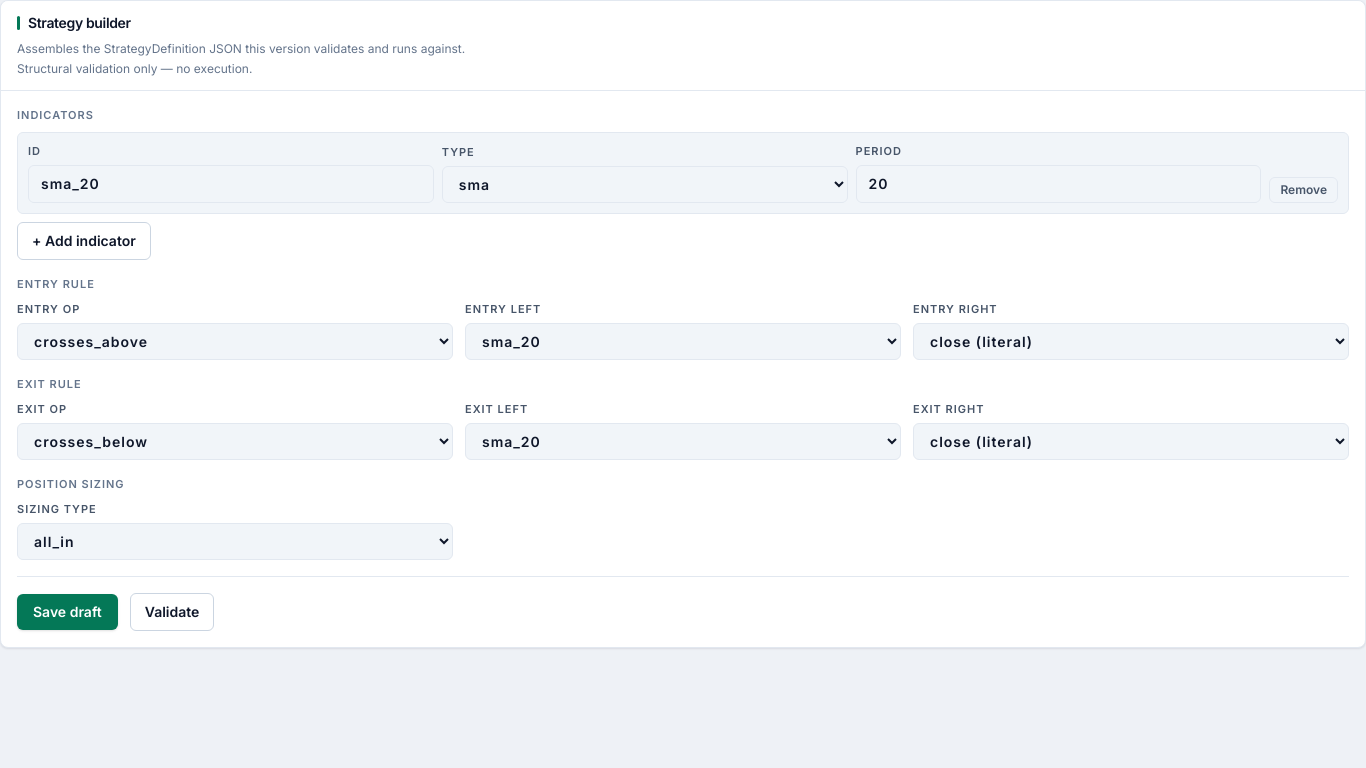
it: StrategyBuilderForm › renders every string in a 422 errors array as its own visible line
The image size is (1366, 768).
Click the button "Validate" at (172, 612), box [130,593,214,631]
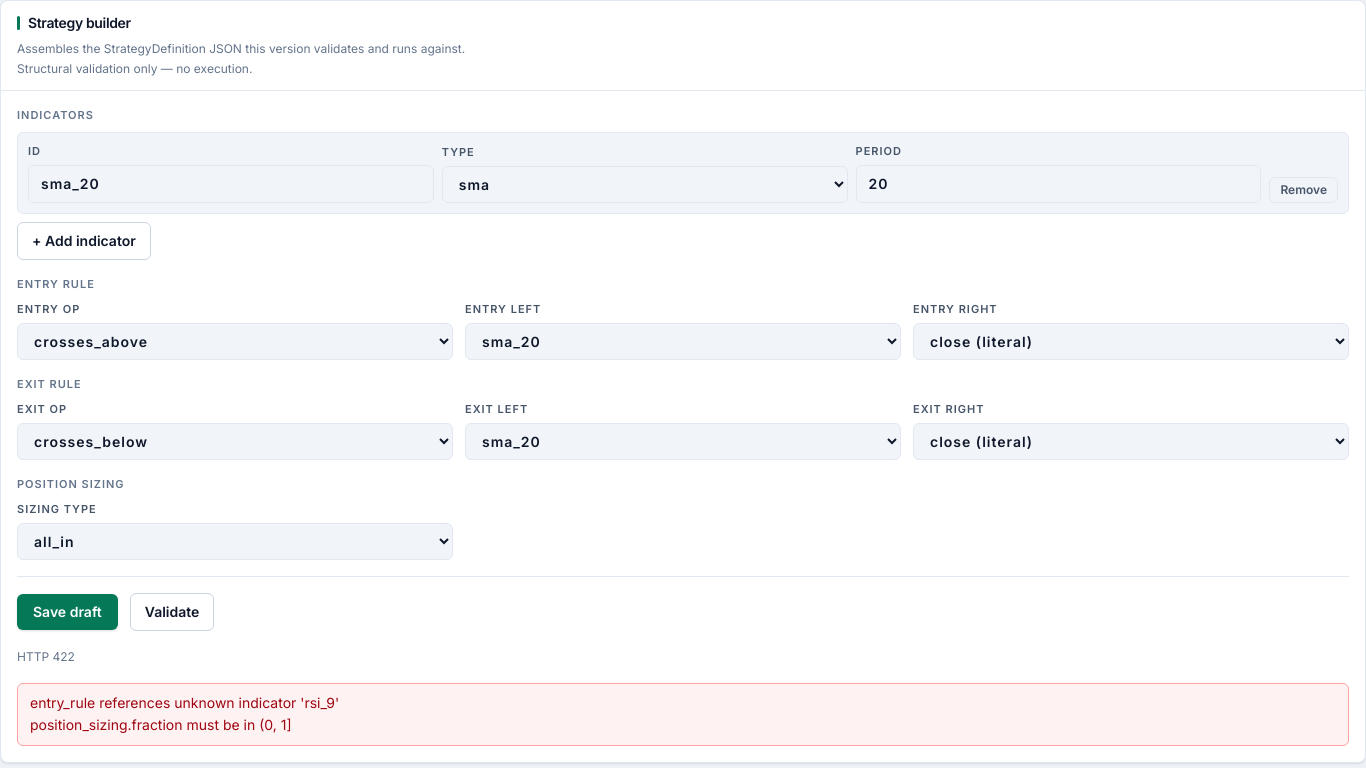
Expected: the text "entry_rule references unknown indicator 'rsi_9'" is shown, [30,694,339,710]
Expected: the text "position_sizing.fraction must be in (0, 1]" is shown, [30,716,292,733]
